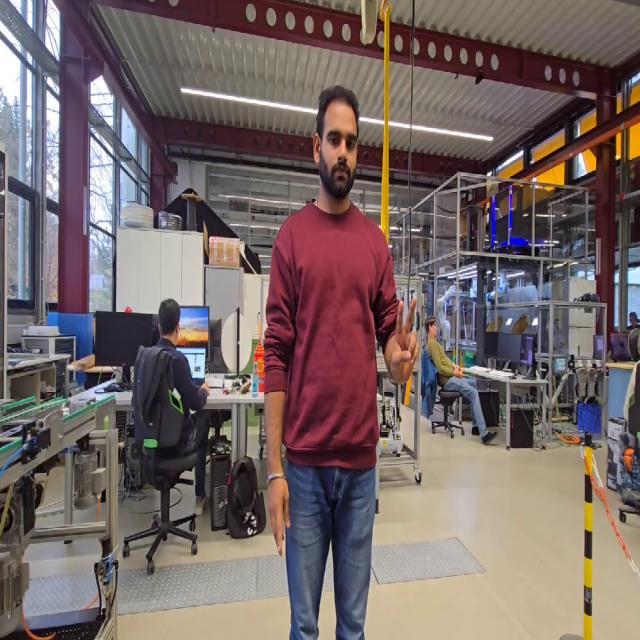v_sign: (383, 294, 421, 389)
